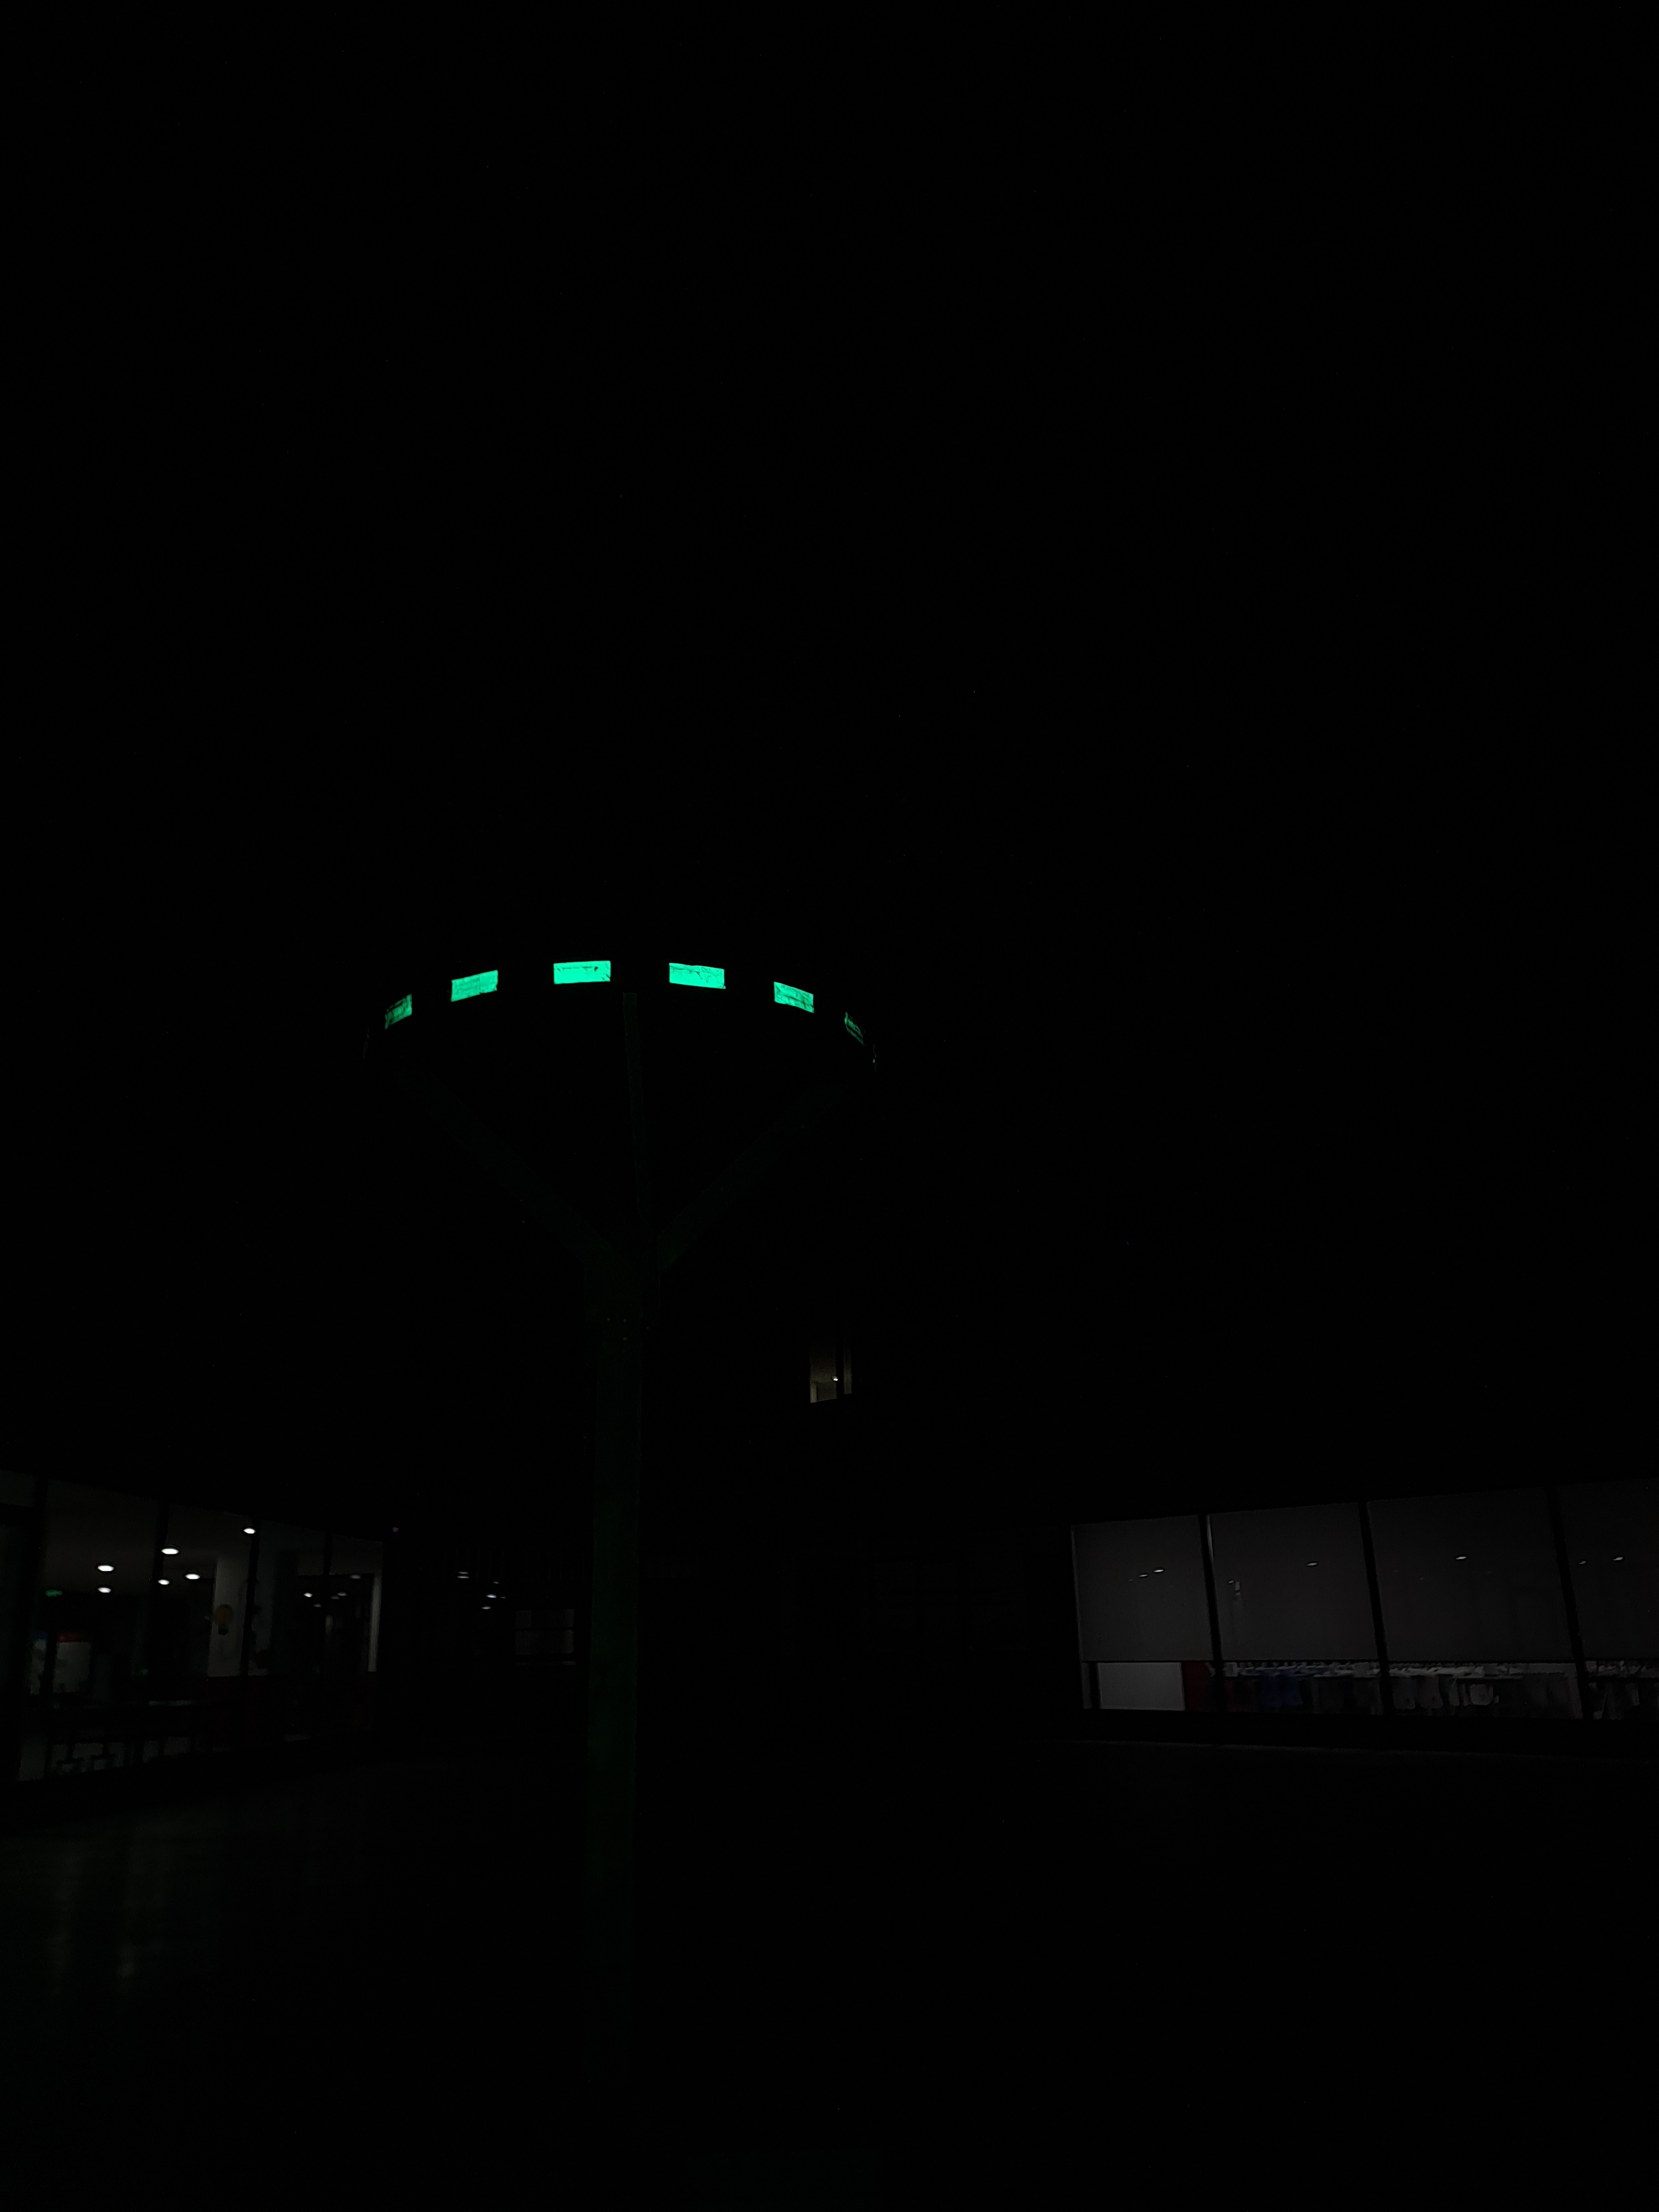hoop: (369, 956, 821, 1040)
